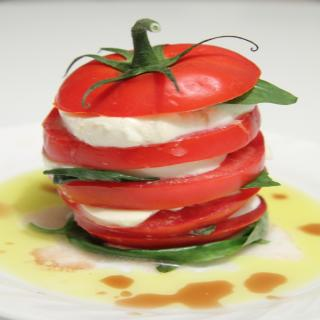tomato: (49, 42, 260, 118), (35, 108, 263, 170)
